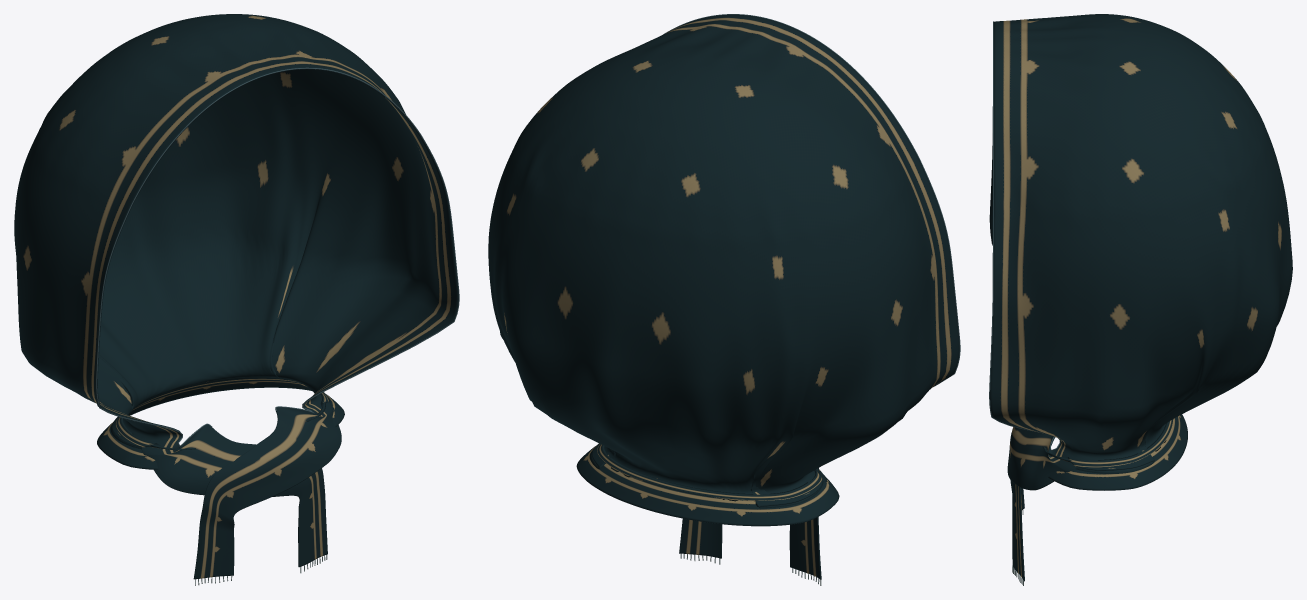
The model's file is Masculine-sweatshirt-pashmina238-headgear.glb.
3 renders of one model, left to right at view 1: azimuth 30°, elevation 25°; view 2: azimuth 150°, elevation 25°; view 3: azimuth 270°, elevation 25°, orthographic. The views are drawn at different scales.
Visible parts, largest first — view 1: 226 headgear / Headwear / continuous woven pashmina238, 226 headgear / Headwear / face edge238; view 2: 226 headgear / Headwear / continuous woven pashmina238, 226 headgear / Headwear / face edge238; view 3: 226 headgear / Headwear / continuous woven pashmina238, 226 headgear / Headwear / face edge238.
Boxes of the visible parts, x1,y1,x2,y2 form: 226 headgear / Headwear / continuous woven pashmina238: (14,14,458,579); 226 headgear / Headwear / face edge238: (96,67,459,446); 226 headgear / Headwear / continuous woven pashmina238: (488,14,959,579); 226 headgear / Headwear / face edge238: (663,14,960,386); 226 headgear / Headwear / continuous woven pashmina238: (989,14,1292,581); 226 headgear / Headwear / face edge238: (989,21,1060,450).
Size of the model in its own units: 1.03 by 1.35 by 0.7127.
3 materials, 1 textured.
